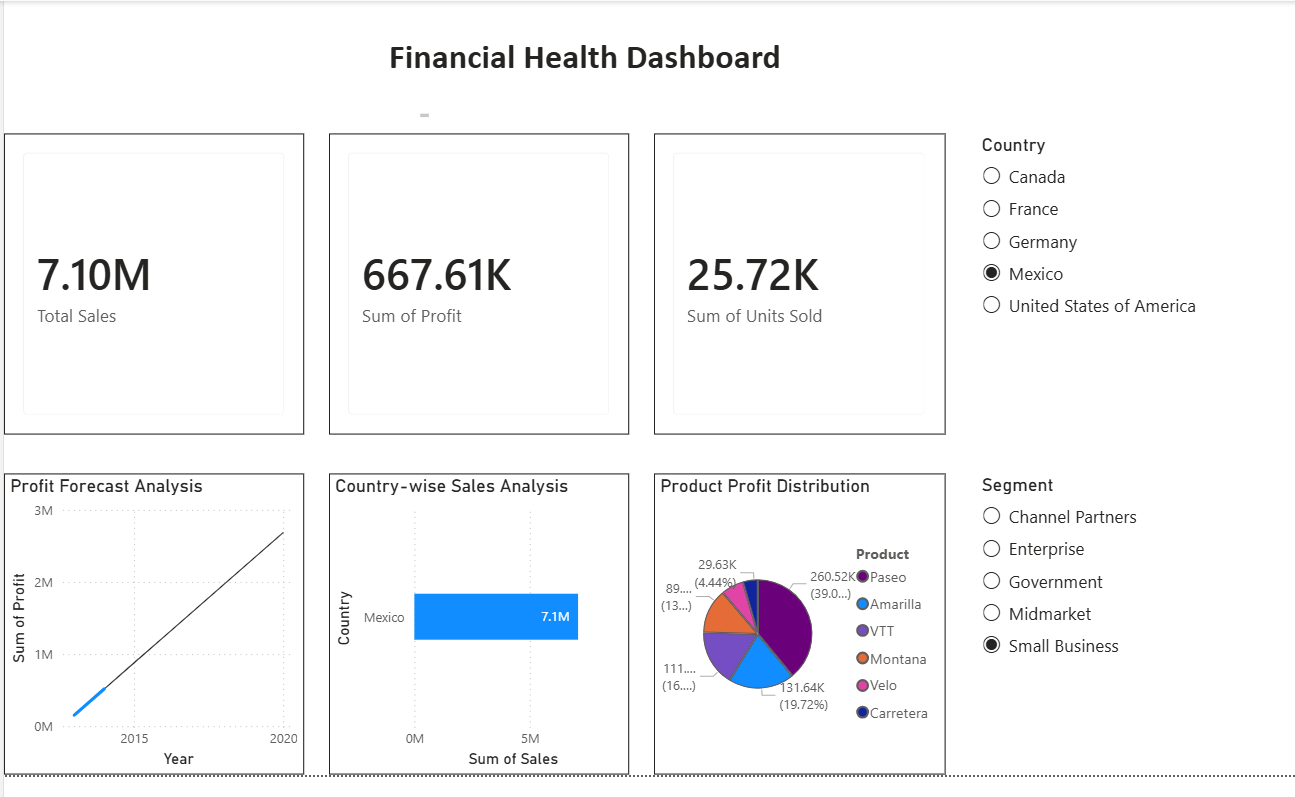

What the dashboard file says about the page in this screenshot:
{"tool":"powerbi","page":{"name":"Overview","canvas":[1280,720],"ordinal":0},"visuals":[{"type":"cardVisual","fields":{"Data":["Sum(financials. Sales)","Sum(financials. Sales)"]},"box":[0,123.3,279.1,280.2],"z":0},{"type":"cardVisual","fields":{"Data":["Sum(financials.Profit)"]},"box":[302.3,123.3,279.1,280.2],"z":1000},{"type":"cardVisual","fields":{"Data":["Sum(financials.Units Sold)"]},"box":[604.7,123.3,270.9,280.2],"z":2000},{"type":"lineChart","title":"Profit Forecast Analysis","fields":{"Category":["financials.Date.Variation.Date Hierarchy.Year","financials.Date.Variation.Date Hierarchy.Quarter","financials.Date.Variation.Date Hierarchy.Month","financials.Date.Variation.Date Hierarchy.Day"],"Y":["Sum(financials.Profit)"]},"box":[0,439.5,279.1,280.2],"z":3000},{"type":"clusteredBarChart","title":"Country-wise Sales Analysis","fields":{"Category":["financials.Country"],"Y":["Sum(financials. Sales)"]},"box":[302.3,439.5,279.1,280.2],"z":4000},{"type":"pieChart","title":"Product Profit Distribution","fields":{"Category":["financials.Product"],"Y":["Sum(financials.Profit)"]},"box":[604.7,439.5,270.9,280.2],"z":4001},{"type":"listSlicer","fields":{"Values":["financials.Country"]},"box":[904.7,123.3,270.9,280.2],"z":4002},{"type":"listSlicer","fields":{"Values":["financials.Segment"]},"box":[904.7,439.5,270.9,280.2],"z":4003},{"type":"textbox","box":[100,100,300,12.8],"z":4004},{"type":"textbox","box":[100,26.7,864,64],"z":4005}]}

Visuals, with their boxes on the page's 1280x720 design canvas (x1, y1, x2, y2). These are canvas units, not pixel positions in the 1295x797 screenshot, which may show the page scaled, cropped or inside an application window:
cardVisual - Sum(financials. Sales) x Sum(financials. Sales): x1=0 y1=123 x2=279 y2=404
cardVisual - Sum(financials.Profit): x1=302 y1=123 x2=581 y2=404
cardVisual - Sum(financials.Units Sold): x1=605 y1=123 x2=876 y2=404
"Profit Forecast Analysis" lineChart: x1=0 y1=440 x2=279 y2=720
"Country-wise Sales Analysis" clusteredBarChart: x1=302 y1=440 x2=581 y2=720
"Product Profit Distribution" pieChart: x1=605 y1=440 x2=876 y2=720
listSlicer - financials.Country: x1=905 y1=123 x2=1176 y2=404
listSlicer - financials.Segment: x1=905 y1=440 x2=1176 y2=720
textbox: x1=100 y1=100 x2=400 y2=113
textbox: x1=100 y1=27 x2=964 y2=91
